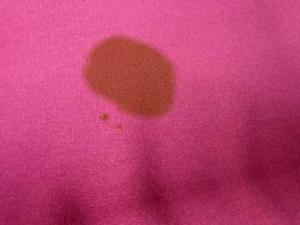stain: (81, 32, 178, 120), (94, 111, 111, 124), (113, 121, 128, 135)
